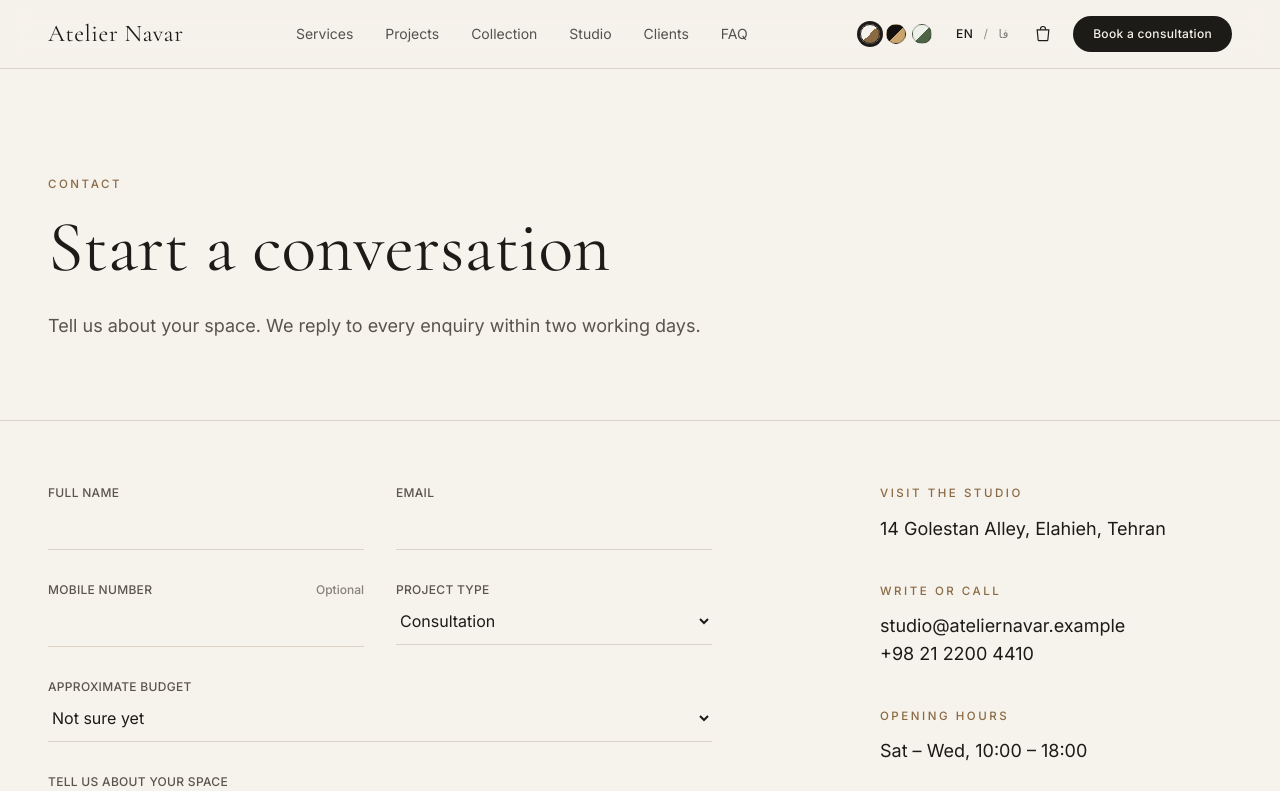
Scenario: contact form with the API › posts the lead to the site’s public endpoint and confirms real receipt
The width and height of the screenshot is (1280, 791).
Type "Sara Ahmadi" into the field labelled "Full name" at (206, 526), box x1=48 y1=501 x2=364 y2=550
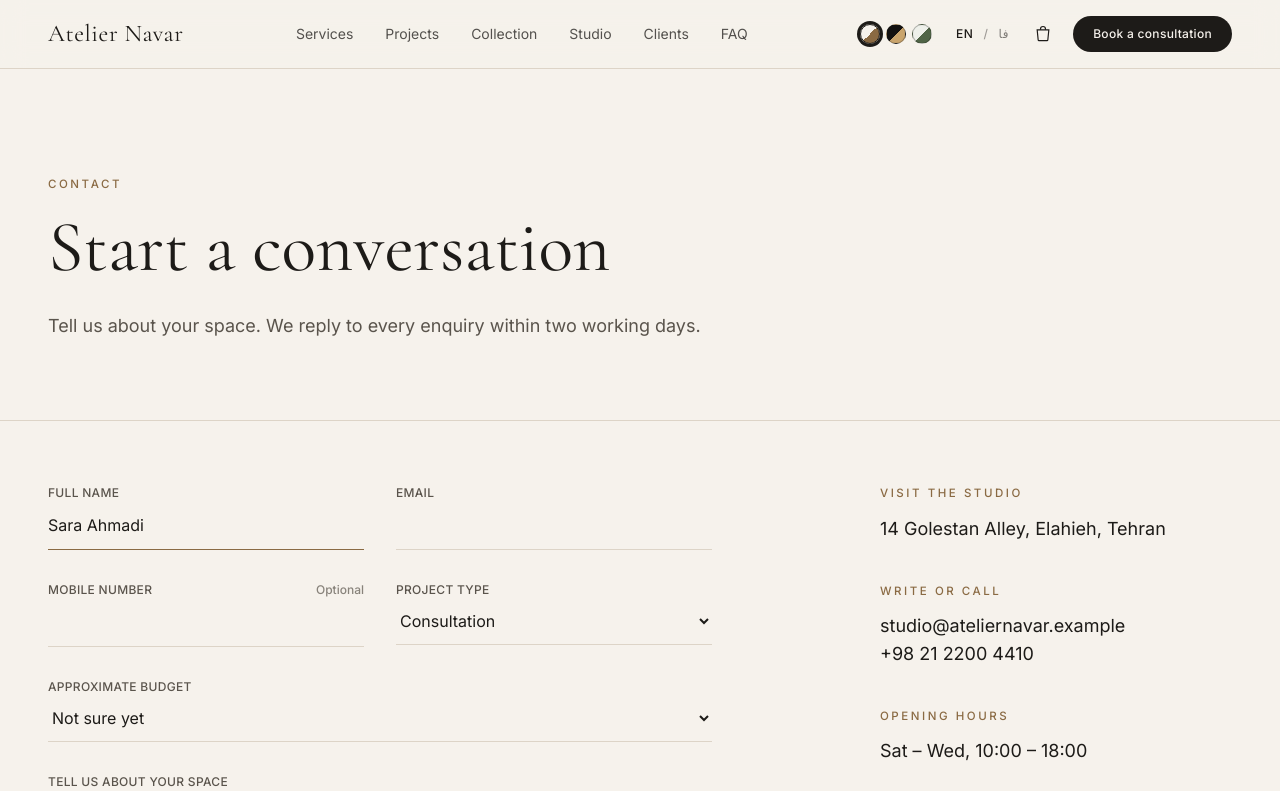
Type "sara@example.com" into the field labelled "Email" at (554, 526), box x1=396 y1=501 x2=712 y2=550
(page scrolled)
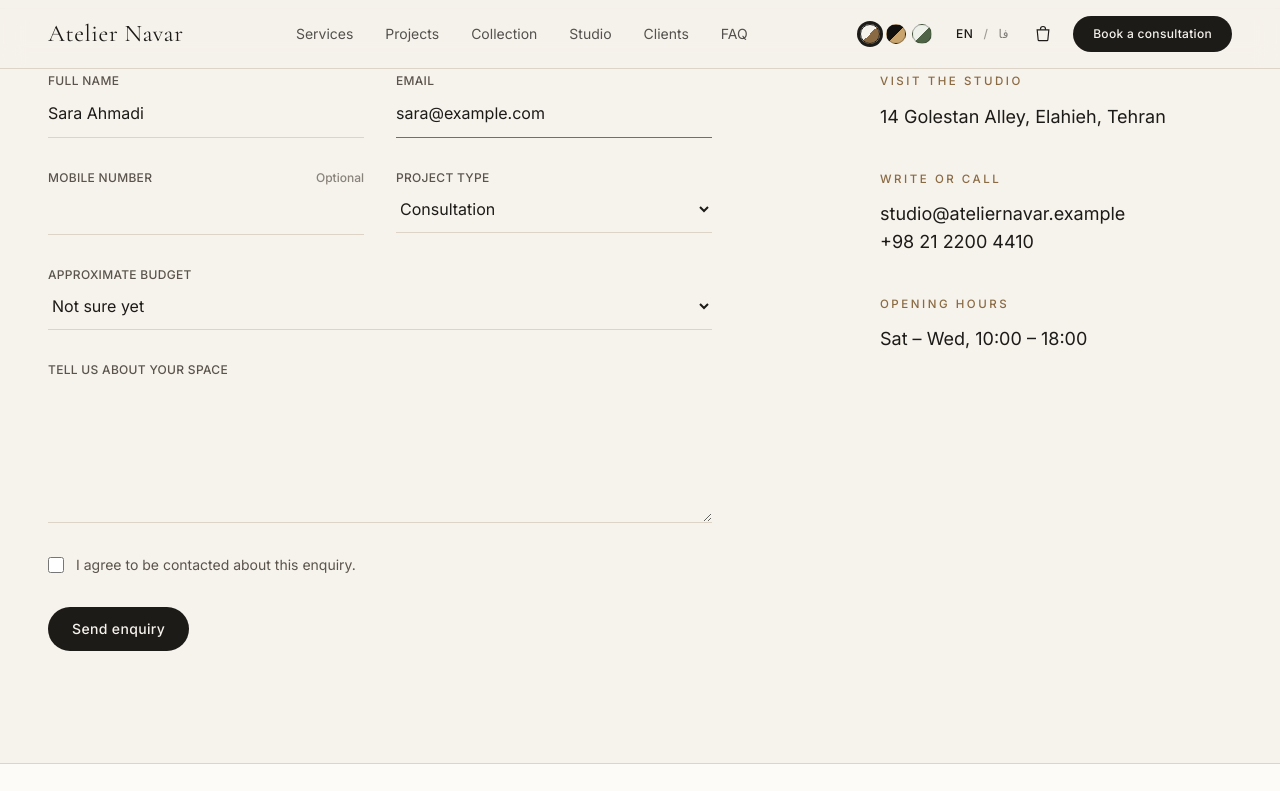
Type "A two-bedroom apartment in need of a calmer living room." into the text box labelled "Tell us about your space" at (380, 451), box x1=48 y1=378 x2=712 y2=523
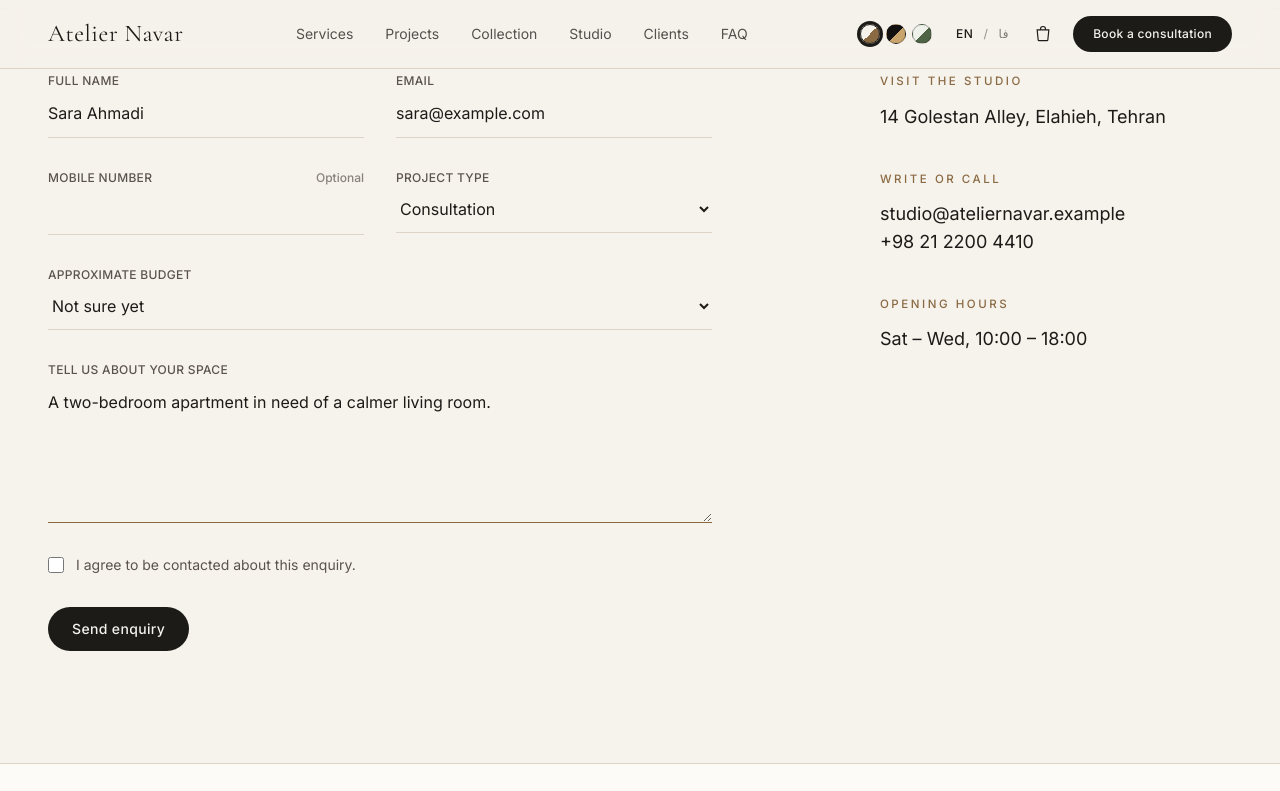
Click the checkbox labelled "I agree to be contacted about this enquiry." at (56, 565), box x1=48 y1=557 x2=64 y2=573
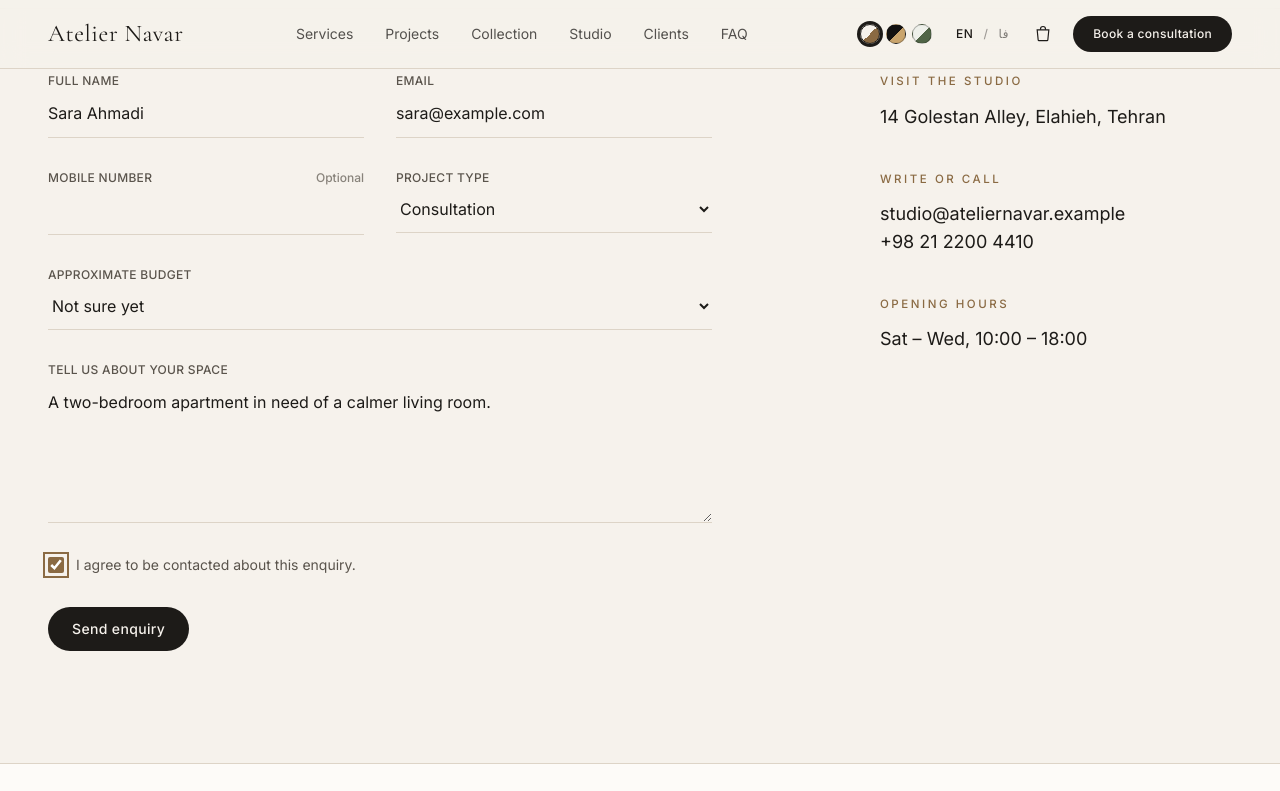
Click the button "Send enquiry" at (119, 629), box x1=48 y1=607 x2=189 y2=651
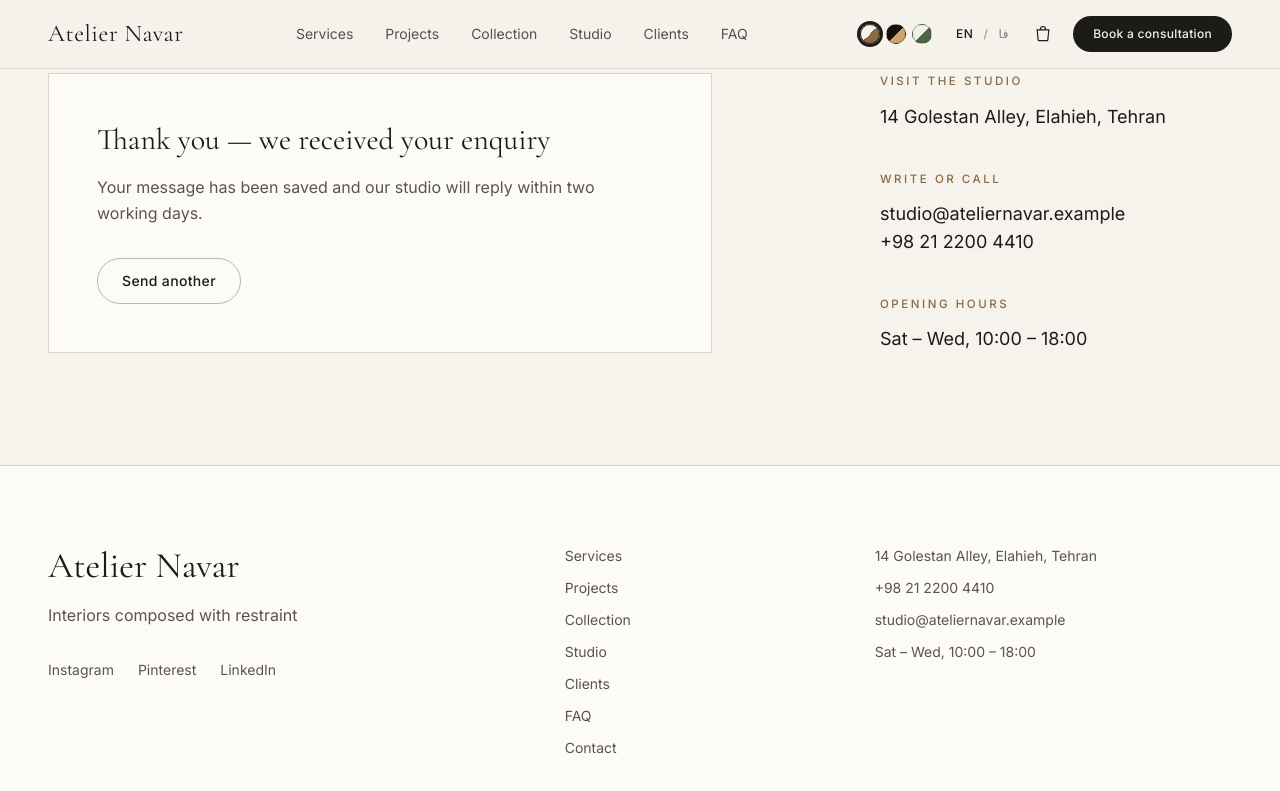
Expected: the heading "Thank you — we received your enquiry" is shown, x1=97 y1=121 x2=550 y2=158
